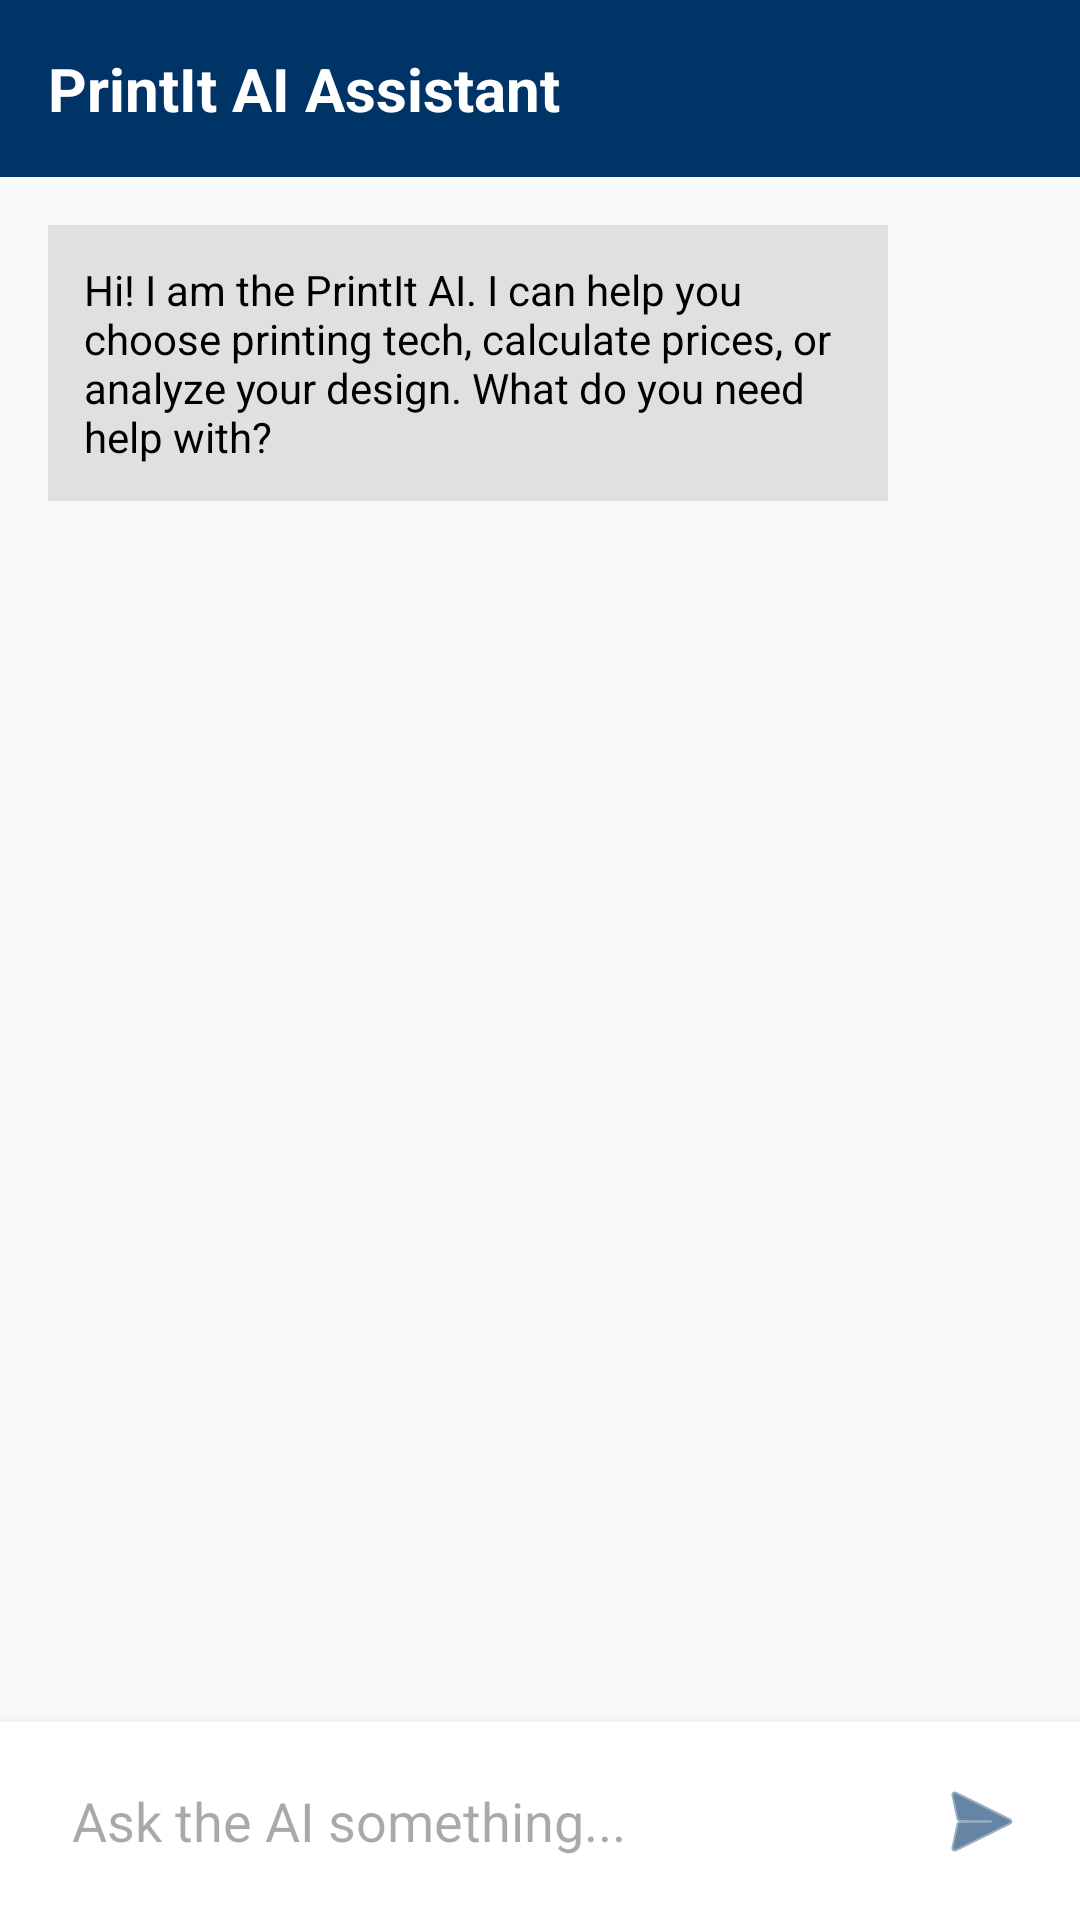

Icon bounding boxes for this 1080px x 1920px phone screenshot, format (x1, y1, x2, y2):
send: (951, 1791, 1013, 1852)
